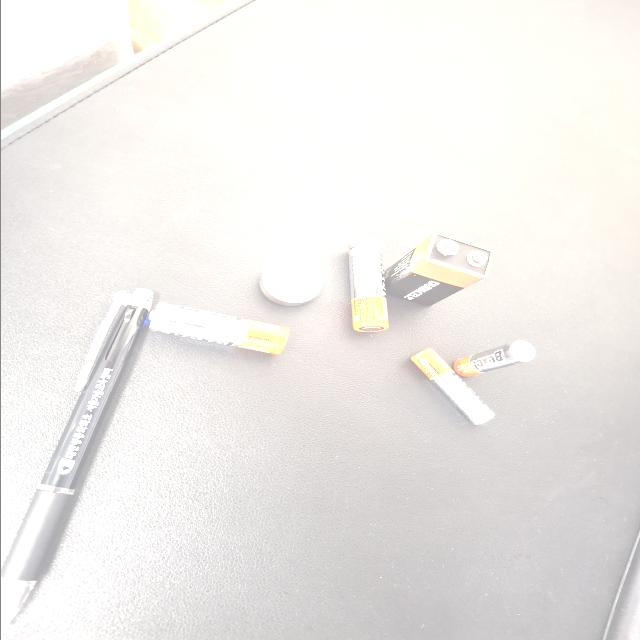9V: (232, 288, 330, 370)
AA: (168, 111, 236, 216), (197, 260, 321, 290)
AAA: (74, 308, 176, 370), (138, 338, 186, 401)
COIN: (232, 194, 294, 240)
